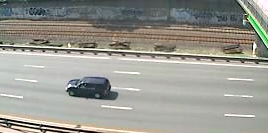car: (64, 74, 113, 102)
